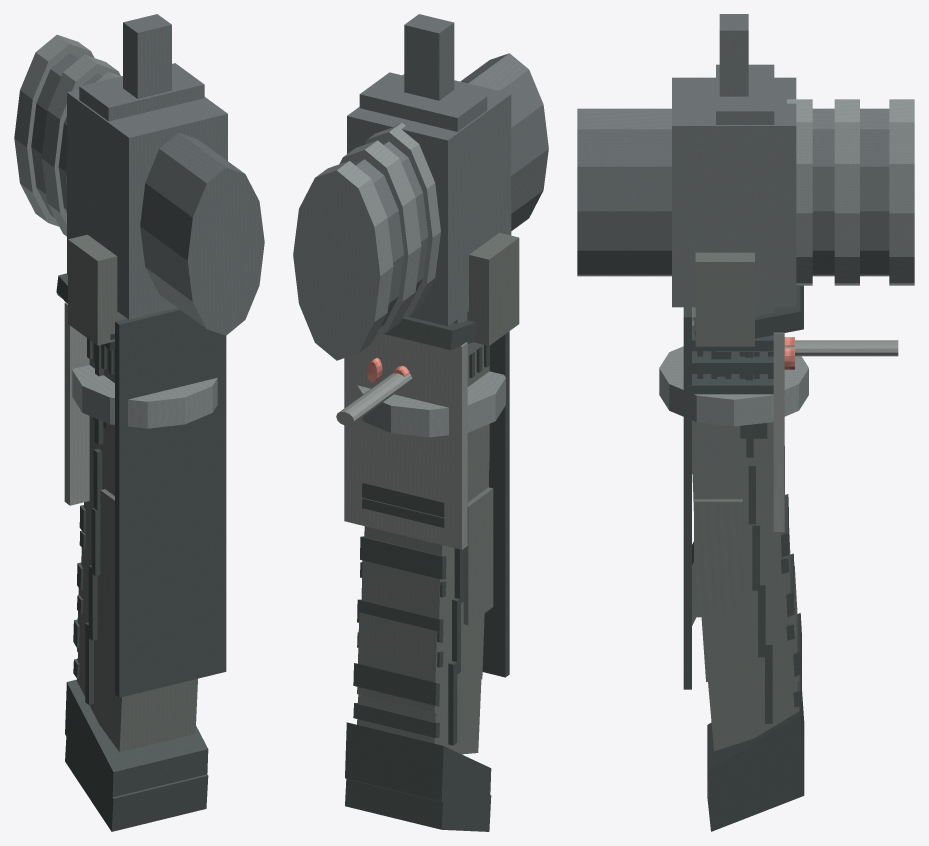
Rendered from weapon_g36k.glb.
3 views of the same model, side by side, from view 1: azimuth 30°, elevation 25°; view 2: azimuth 150°, elevation 25°; view 3: azimuth 270°, elevation 25° (orthographic). The views are drawn at different scales.
Visible parts, largest first — view 1: weapon_g36k__L1_stock__g36_adjust, weapon_g36k__L0_stock__g36_adjust, weapon_g36k__L0_optic__scope6, weapon_g36k__L0_optic__prism2, weapon_g36k__L1_optic__scope6, weapon_g36k__L1_magazine__g36_30, weapon_g36k__L0_magazine__g36_30, weapon_g36k__L1_optic__prism2, weapon_g36k__L0_magazine__g36_20, weapon_g36k__L1_magazine__g36_20, weapon_g36k__L0_handguard_light__wide_light, weapon_g36k__L0_optic__dot_tube (+6 smaller); view 2: weapon_g36k__L0_stock__g36_adjust, weapon_g36k__L0_optic__scope6, weapon_g36k__L0_magazine__g36_20, weapon_g36k__L1_magazine__g36_20, weapon_g36k__L1_optic__scope6, weapon_g36k__L1_stock__g36_adjust, weapon_g36k__L0_optic__prism2, weapon_g36k__L1_optic__prism2, weapon_g36k__L0_magazine__g36_30, weapon_g36k__L0_optic__dot_tube, weapon_g36k__L1_optic__dot_tube, weapon_g36k__L1_magazine__g36_30 (+10 smaller); view 3: weapon_g36k__L0_optic__prism2, weapon_g36k__L0_optic__scope6, weapon_g36k__L1_optic__prism2, weapon_g36k__L0_magazine__g36_20, weapon_g36k__L0_stock__g36_adjust, weapon_g36k__L1_magazine__g36_20, weapon_g36k__L0_magazine__g36_30, weapon_g36k__L0_optic__scope4, weapon_g36k__L1_stock__g36_adjust, weapon_g36k__L1_magazine__g36_30, weapon_g36k__L1_optic__scope6, weapon_g36k__L0_optic__dot_tube (+12 smaller).
Boxes of the visible parts, bbox=[...] form: weapon_g36k__L1_stock__g36_adjust: bbox=[64, 235, 226, 697]; weapon_g36k__L0_stock__g36_adjust: bbox=[64, 234, 224, 695]; weapon_g36k__L0_optic__scope6: bbox=[14, 36, 262, 332]; weapon_g36k__L0_optic__prism2: bbox=[42, 55, 226, 316]; weapon_g36k__L1_optic__scope6: bbox=[14, 34, 264, 335]; weapon_g36k__L1_magazine__g36_30: bbox=[65, 345, 208, 831]; weapon_g36k__L0_magazine__g36_30: bbox=[66, 344, 205, 829]; weapon_g36k__L1_optic__prism2: bbox=[41, 54, 227, 319]; weapon_g36k__L0_magazine__g36_20: bbox=[65, 345, 206, 813]; weapon_g36k__L1_magazine__g36_20: bbox=[65, 344, 208, 823]; weapon_g36k__L0_handguard_light__wide_light: bbox=[72, 365, 217, 427]; weapon_g36k__L0_optic__dot_tube: bbox=[66, 14, 170, 180]; weapon_g36k__L0_stock__g36_adjust: bbox=[346, 233, 519, 674]; weapon_g36k__L0_optic__scope6: bbox=[294, 54, 548, 357]; weapon_g36k__L0_magazine__g36_20: bbox=[346, 424, 489, 820]; weapon_g36k__L1_magazine__g36_20: bbox=[345, 424, 491, 809]; weapon_g36k__L1_optic__scope6: bbox=[293, 53, 548, 360]; weapon_g36k__L1_stock__g36_adjust: bbox=[344, 232, 519, 677]; weapon_g36k__L0_optic__prism2: bbox=[342, 75, 509, 332]; weapon_g36k__L1_optic__prism2: bbox=[339, 74, 511, 336]; weapon_g36k__L0_magazine__g36_30: bbox=[346, 356, 490, 829]; weapon_g36k__L0_optic__dot_tube: bbox=[367, 14, 453, 313]; weapon_g36k__L1_optic__dot_tube: bbox=[364, 14, 454, 317]; weapon_g36k__L1_magazine__g36_30: bbox=[345, 456, 491, 831]; weapon_g36k__L0_optic__prism2: bbox=[662, 78, 858, 304]; weapon_g36k__L0_optic__scope6: bbox=[578, 99, 913, 285]; weapon_g36k__L1_optic__prism2: bbox=[661, 77, 859, 307]; weapon_g36k__L0_magazine__g36_20: bbox=[693, 352, 802, 819]; weapon_g36k__L0_stock__g36_adjust: bbox=[684, 252, 784, 614]; weapon_g36k__L1_magazine__g36_20: bbox=[693, 352, 804, 823]; weapon_g36k__L0_magazine__g36_30: bbox=[692, 374, 802, 829]; weapon_g36k__L0_optic__scope4: bbox=[631, 108, 834, 276]; weapon_g36k__L1_stock__g36_adjust: bbox=[683, 252, 784, 689]; weapon_g36k__L1_magazine__g36_30: bbox=[692, 352, 804, 831]; weapon_g36k__L1_optic__scope6: bbox=[577, 99, 914, 285]; weapon_g36k__L0_optic__dot_tube: bbox=[720, 14, 811, 285].
Size of the model in its own units: 1.82 by 9.91 by 3.85.
3 materials, 3 textured.
